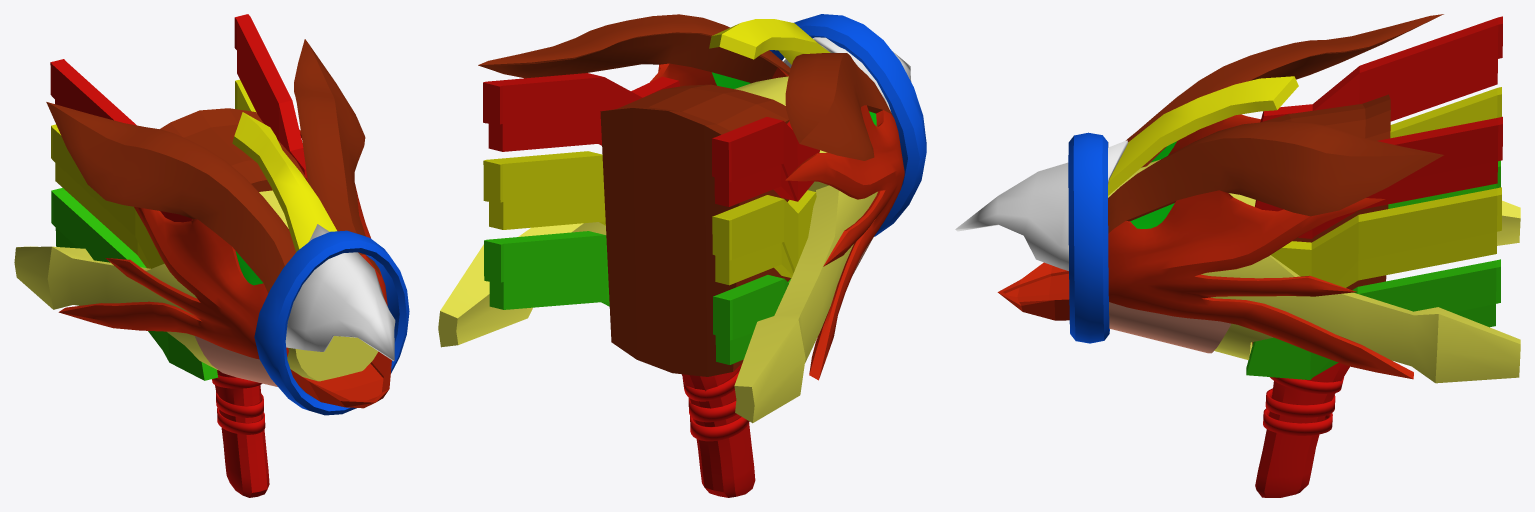
File: 火焰前端.fbx
3 views of the same model, side by side, from view 1: azimuth 30°, elevation 25°; view 2: azimuth 150°, elevation 25°; view 3: azimuth 270°, elevation 25° (orthographic). The views are drawn at different scales.
Parts seen in each view (by area): view 1: 圓形.013, 圓形.012; view 2: 圓形.013, 圓形.012; view 3: 圓形.013, 圓形.012.
Part boxes in pixels (left/top/right/bottom): 圓形.013: left=14, top=14, right=409, bottom=415; 圓形.012: left=212, top=370, right=269, bottom=497; 圓形.013: left=438, top=14, right=926, bottom=423; 圓形.012: left=682, top=363, right=755, bottom=497; 圓形.013: left=955, top=14, right=1520, bottom=383; 圓形.012: left=1255, top=362, right=1349, bottom=497.
Bounding box in the file's own units: 108 × 146 × 176.
